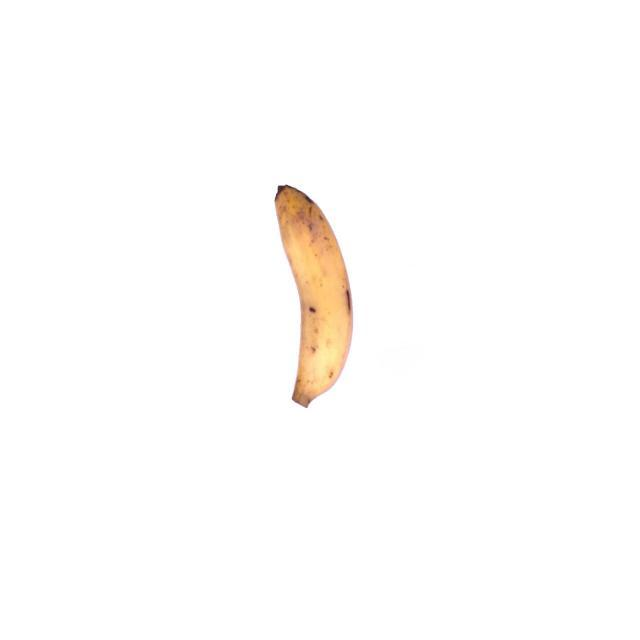banana: (272, 182, 356, 412)
